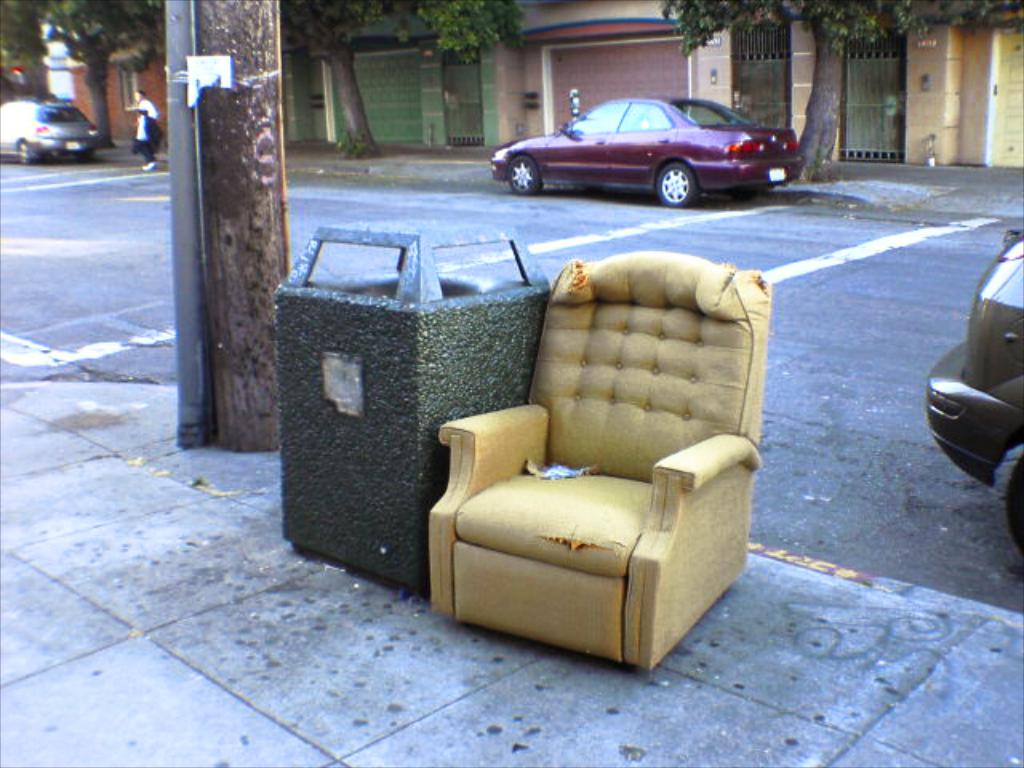Car: (478, 86, 803, 200), (924, 228, 1022, 561), (0, 94, 99, 164)
